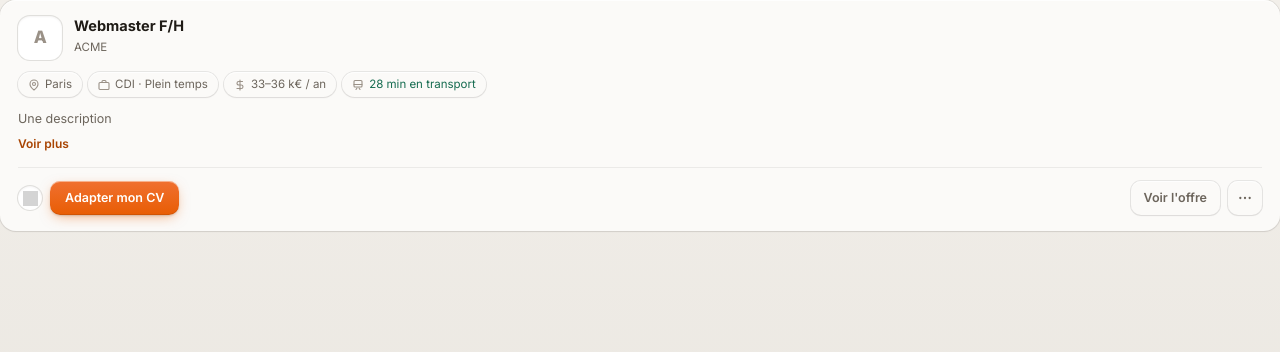
Test: JobCard › déplie la description
Click the button "Voir plus" at (43, 141), box left=18, top=129, right=69, bottom=153
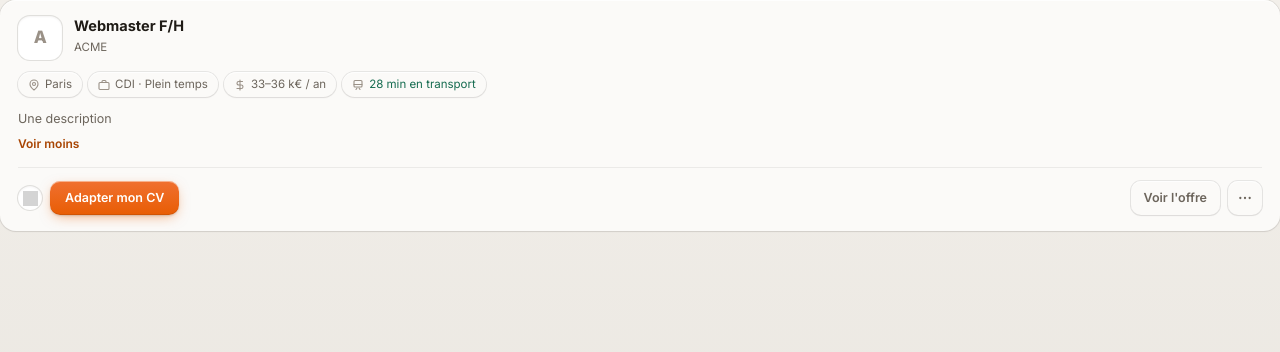
Result: the button "Voir moins" is shown at left=18, top=129, right=80, bottom=153
